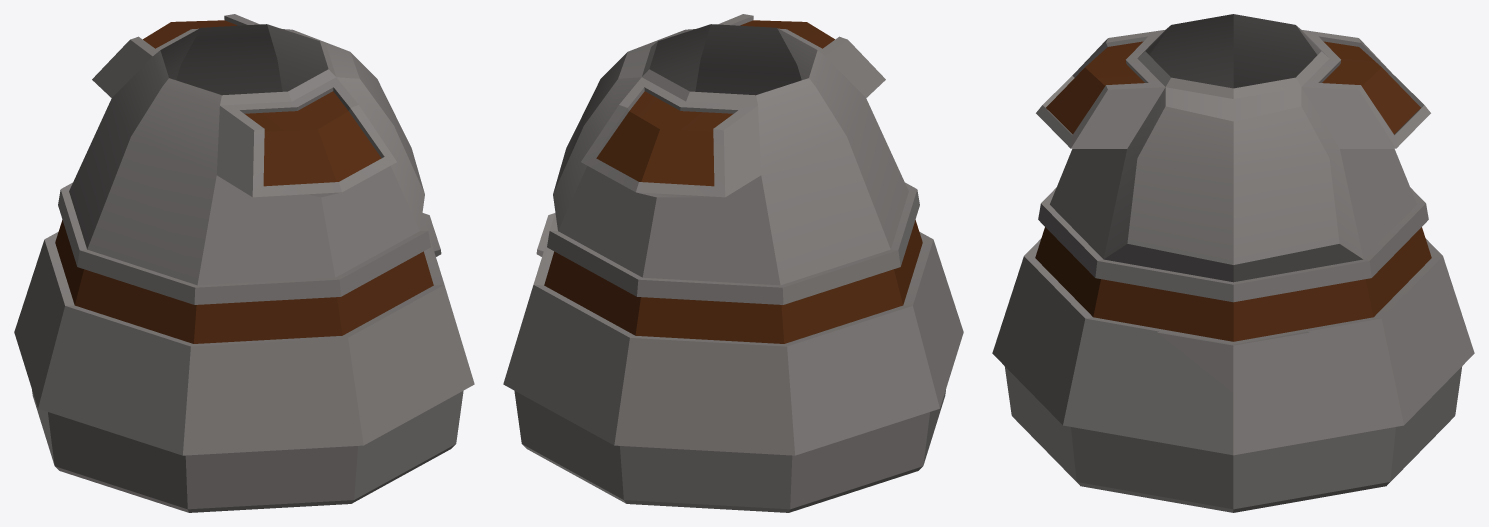
The model's file is BodyKnight.fbx.
3 views of the same model, side by side, from view 1: azimuth 30°, elevation 25°; view 2: azimuth 150°, elevation 25°; view 3: azimuth 270°, elevation 25° (orthographic).
Parts seen in each view (by area): view 1: Body Knight; view 2: Body Knight; view 3: Body Knight.
Boxes of the visible parts, x1=… form: Body Knight: x1=14, y1=14, x2=474, y2=512; Body Knight: x1=503, y1=14, x2=963, y2=512; Body Knight: x1=992, y1=14, x2=1474, y2=512.
Size of the model in its own units: 2.55 by 2.16 by 2.55.
